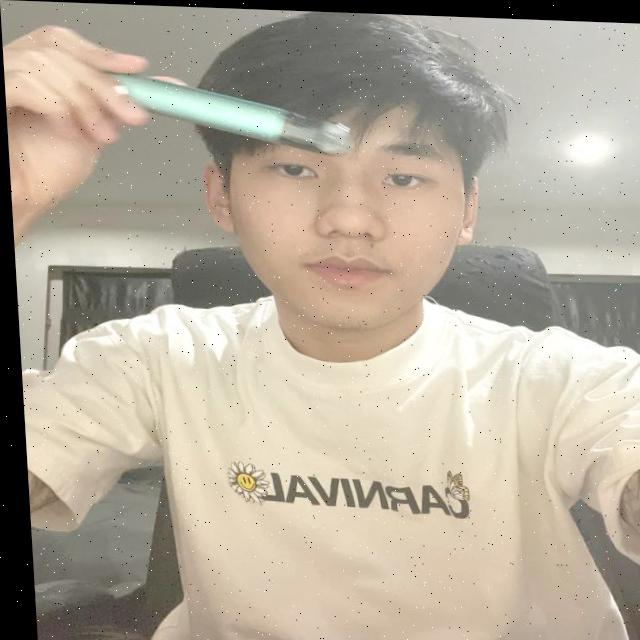vape: (109, 70, 355, 150)
